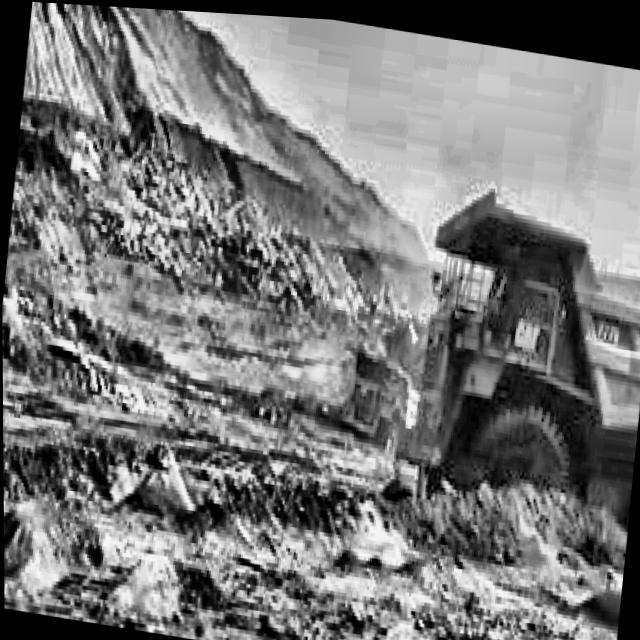dump_truck: (398, 178, 640, 557)
